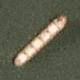ship: (0, 0, 30, 31)
